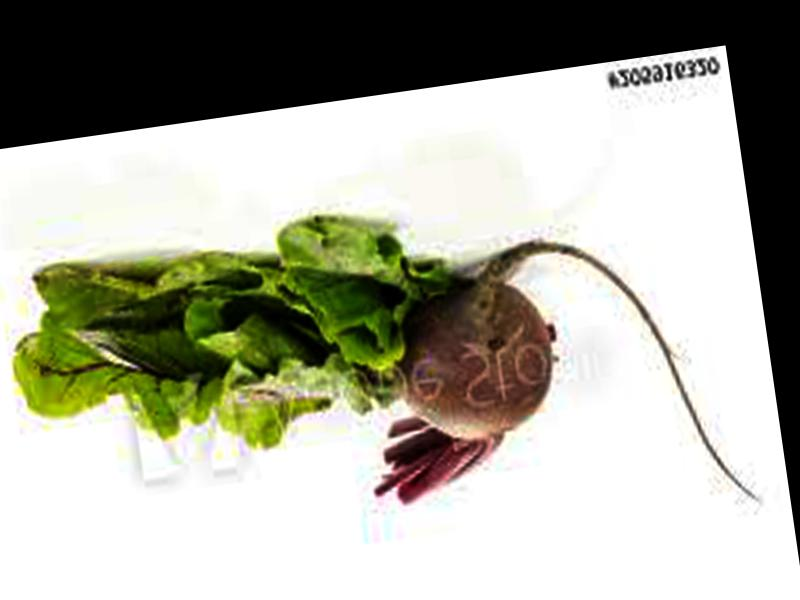Beet: (337, 214, 764, 558)
